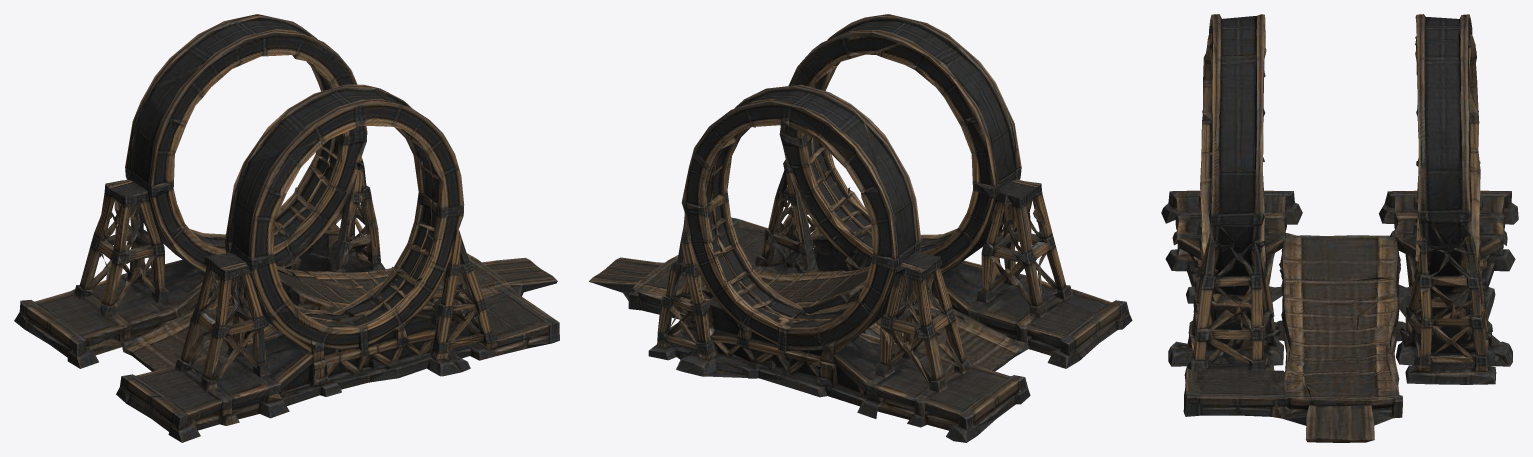
File: stunt-double-loop.glb
3 renders of one model, left to right at view 1: azimuth 30°, elevation 25°; view 2: azimuth 150°, elevation 25°; view 3: azimuth 270°, elevation 25°, orthographic. The views are drawn at different scales.
Bounding box in the file's own units: 1.9 × 1.11 × 1.23.
Materials: 1 (1 with a texture image).
